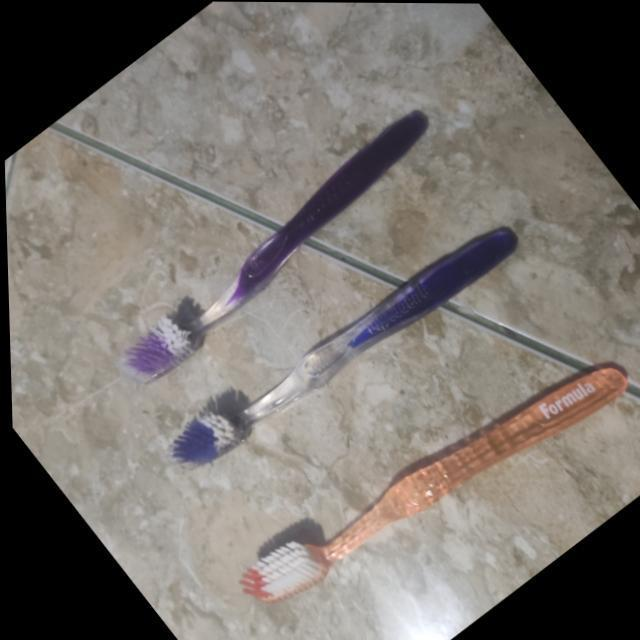toothbrush: (142, 168, 572, 524), (210, 290, 640, 640), (81, 82, 482, 404)
